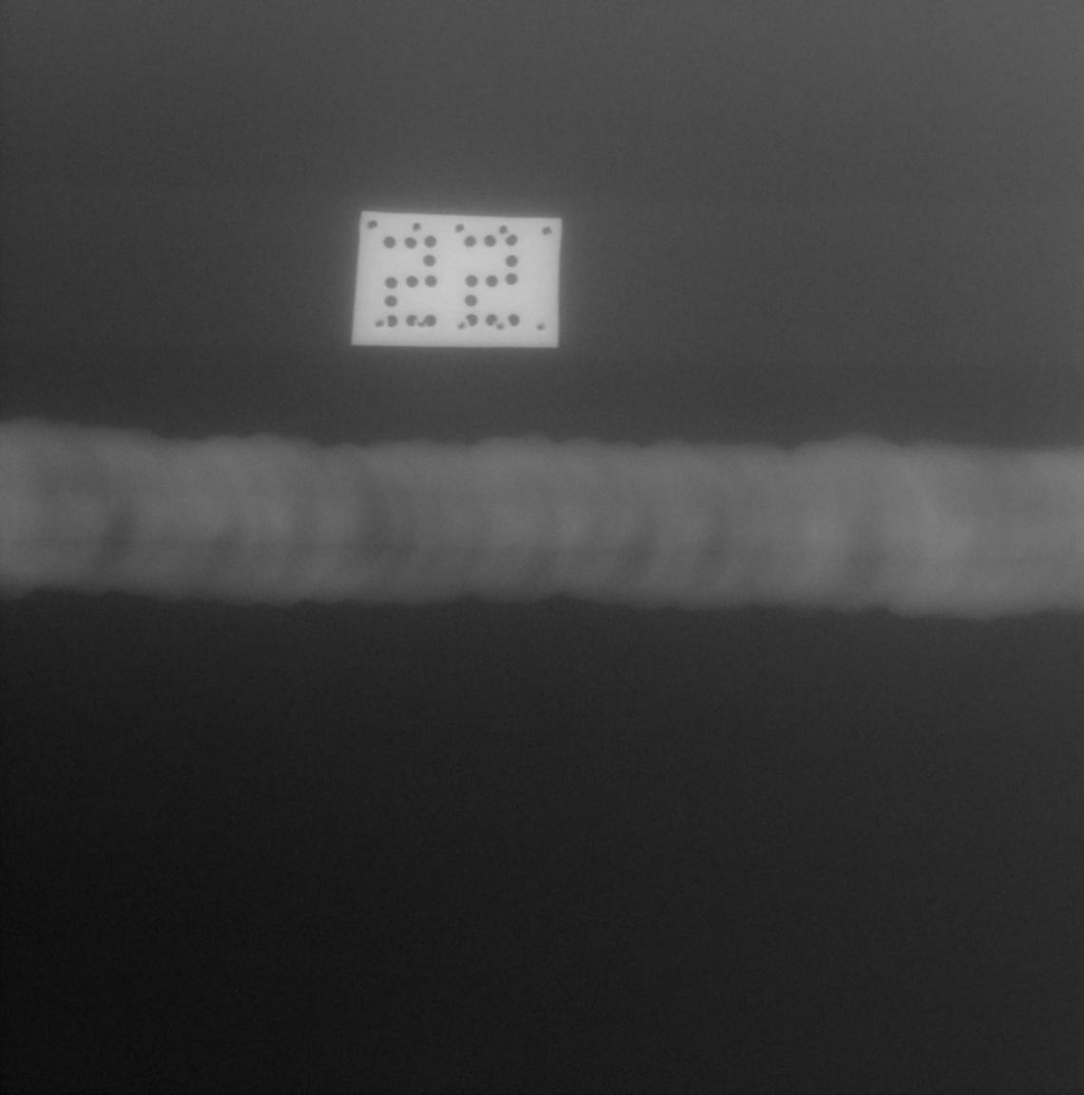Inclusion: (373, 545, 377, 550)
Pore/Porosity: (344, 477, 349, 483), (370, 534, 375, 538), (355, 481, 358, 485), (350, 491, 353, 494), (378, 530, 380, 533)
